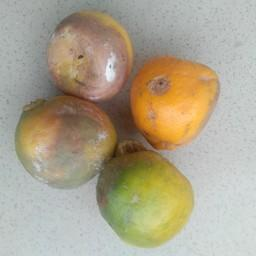Bad_orange: (97, 143, 195, 250), (13, 96, 117, 188), (128, 53, 223, 151), (42, 8, 133, 100)
